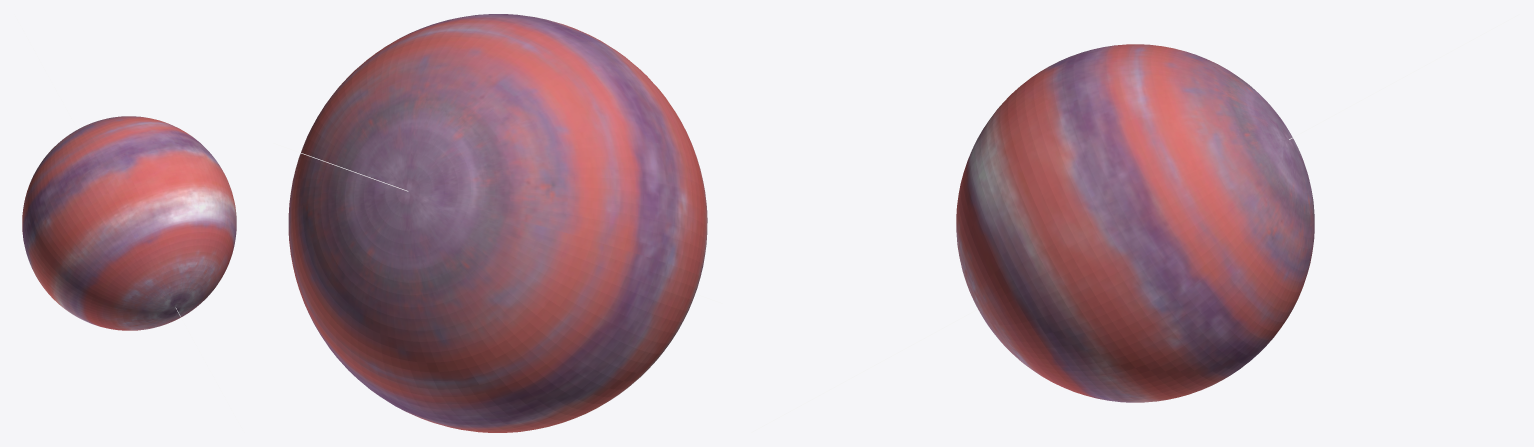
The model's file is abol.glb.
3 renders of one model, left to right at view 1: azimuth 30°, elevation 25°; view 2: azimuth 150°, elevation 25°; view 3: azimuth 270°, elevation 25°, orthographic. The views are drawn at different scales.
Visible parts, largest first — view 1: Sphere, Axis_Rod; view 2: Sphere; view 3: Sphere.
Part boxes in pixels (<box>): Sphere: <box>22,116,236,330</box>; Axis_Rod: <box>14,14,244,432</box>; Sphere: <box>288,14,707,432</box>; Sphere: <box>956,44,1314,402</box>.
Size of the model in its own units: 2 by 2.58 by 4.29.
Materials: 2 (1 with a texture image).
